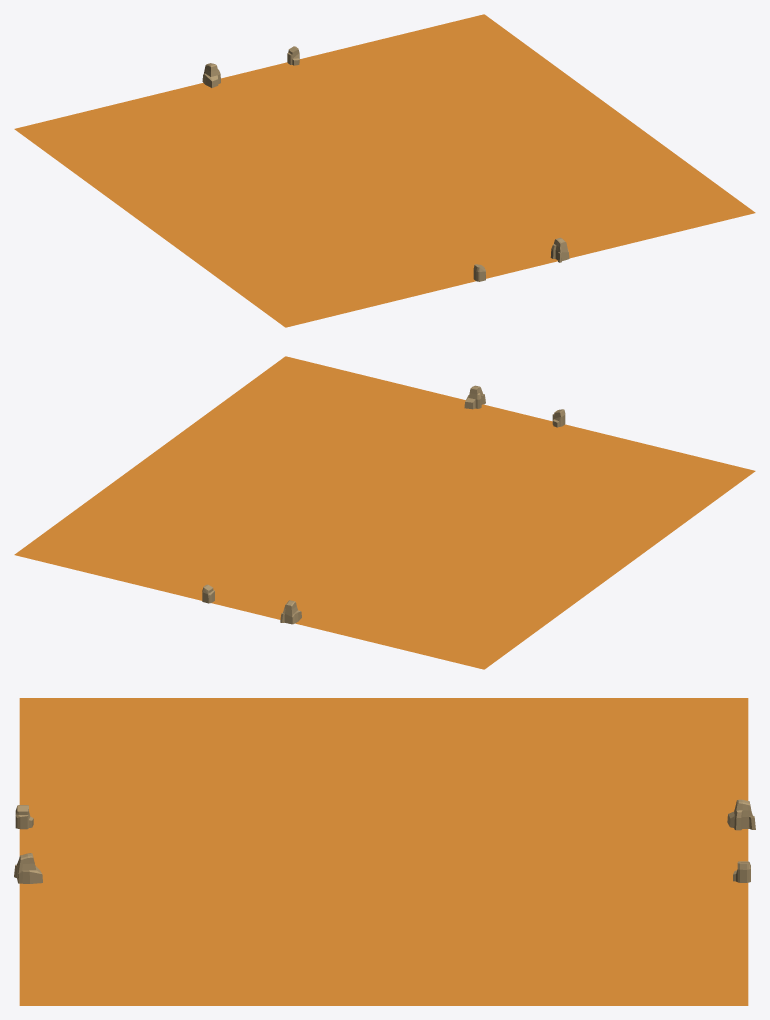
Rendered from Block_50.gltf.
The picture shows the model from 3 angles, top to bottom: view 1: azimuth 30°, elevation 25°; view 2: azimuth 150°, elevation 25°; view 3: azimuth 270°, elevation 25°; orthographic projection. The views are drawn at different scales.
Visible parts, largest first — view 1: Block_50-col; view 2: Block_50-col; view 3: Block_50-col.
Part boxes in pixels (x1,y1,x2,y2): Block_50-col: [14, 14, 755, 327]; Block_50-col: [14, 356, 755, 669]; Block_50-col: [14, 698, 755, 1005].
Bounding box in the file's own units: 50 × 1.89 × 50.92.
